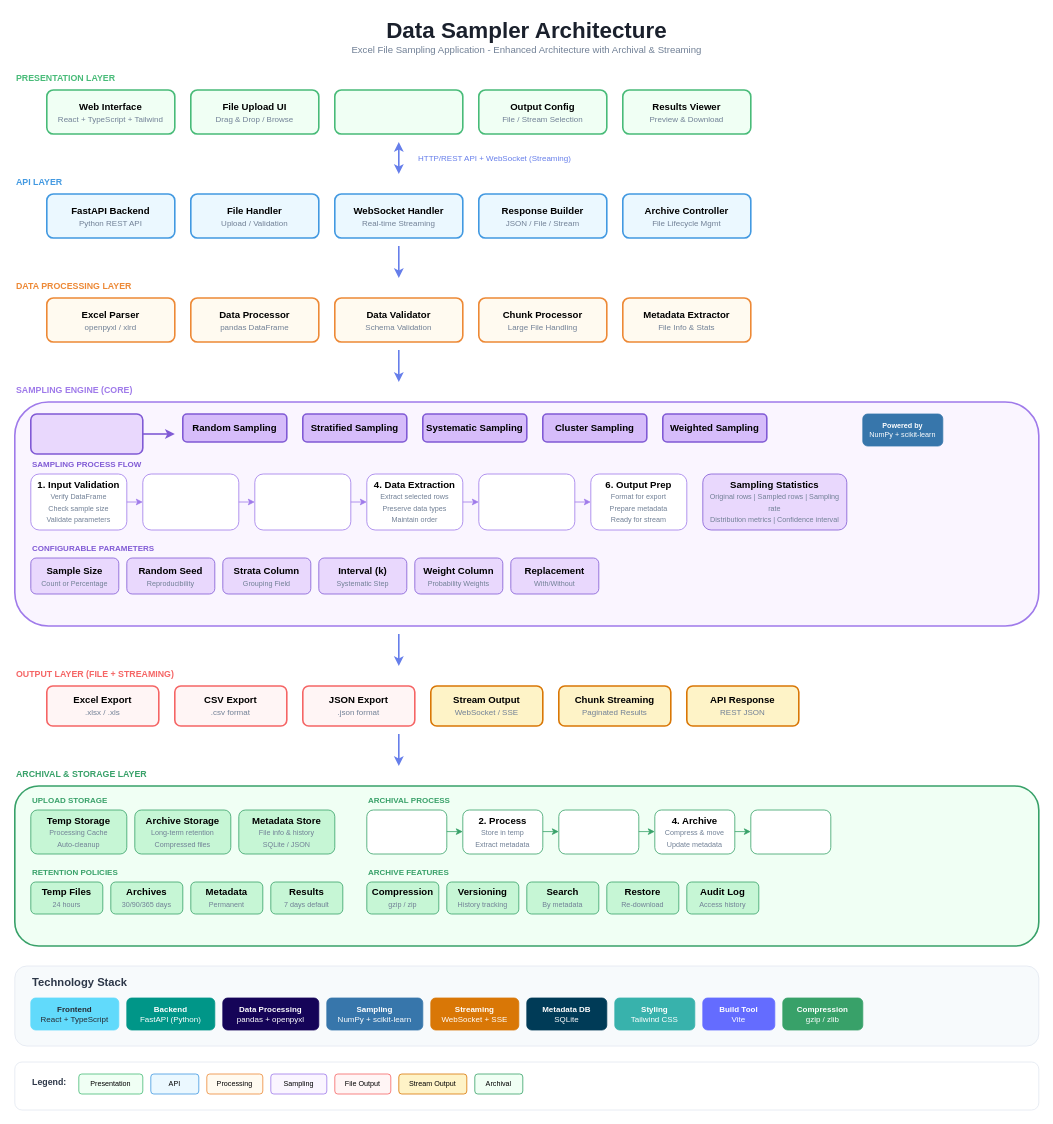
The diagram is 1053 pixels wide and 1124 high, and some of its shapes have lost their labels. Each missing label, with the centre of its shape:
"1. Upload Receive file Generate UUID" belongs at point (406, 831).
"2. Data Analysis Calculate statistics Identify strata/groups Determine weights" belongs at point (190, 501).
"3. Sample Run sampling Store results" belongs at point (598, 831).
"3. Sample Selection Apply algorithm Generate indices Handle edge cases" belongs at point (302, 501).
"5. Cleanup Remove temp Apply retention" belongs at point (790, 831).
"5. Result Validation Verify sample size Check distribution Generate stats" belongs at point (526, 501).
"Sampling Config Method & Parameters" belongs at point (398, 111).
"Strategy Selector Algorithm Router" belongs at point (86, 433).
